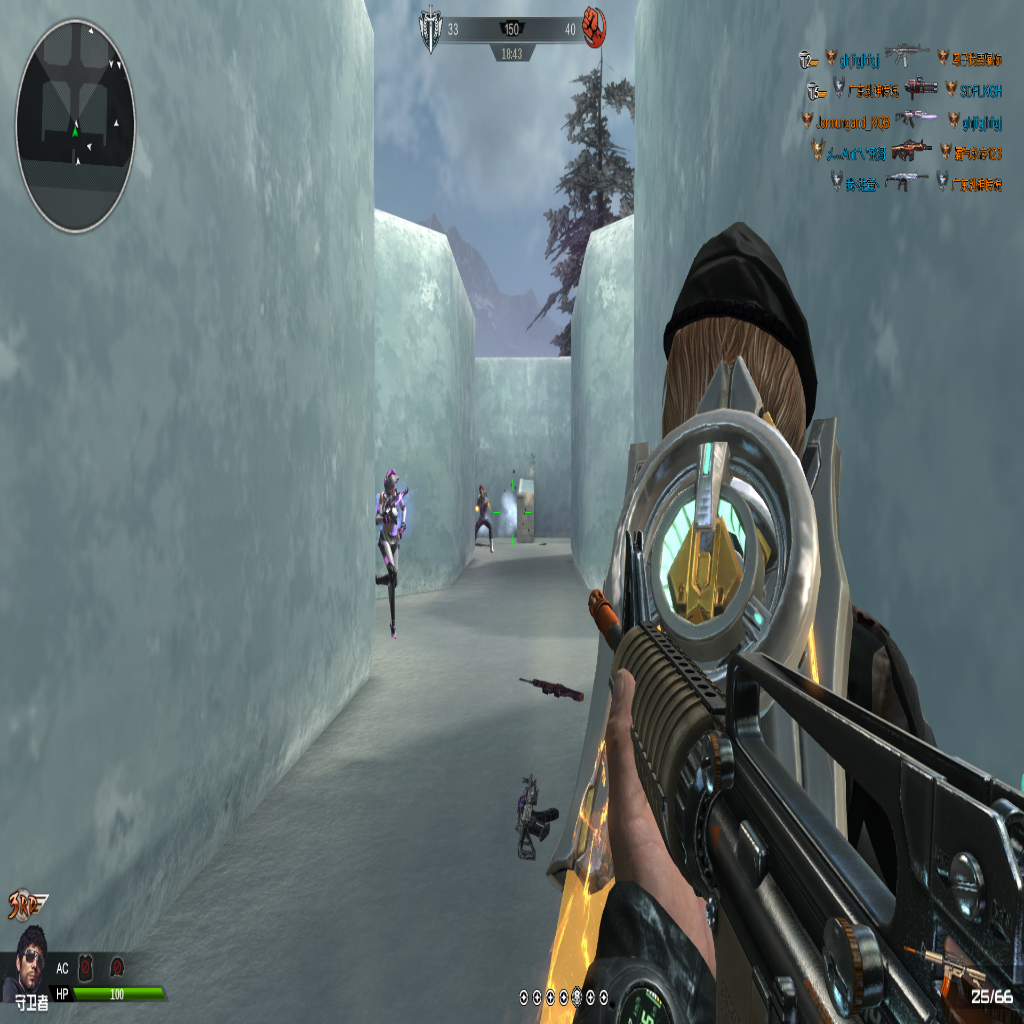tt: (375, 475, 406, 633), (474, 483, 495, 549)
